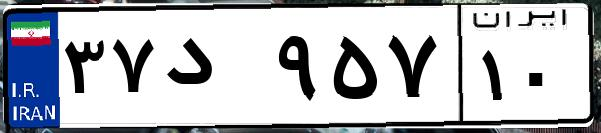0: (525, 38, 570, 115)
1: (475, 38, 525, 113)
3: (57, 26, 110, 100)
5: (330, 28, 385, 110)
7: (385, 28, 445, 110), (110, 28, 158, 98)
9: (270, 28, 330, 110)
د: (158, 20, 270, 120)
